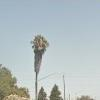Tree: (22, 28, 61, 100)
